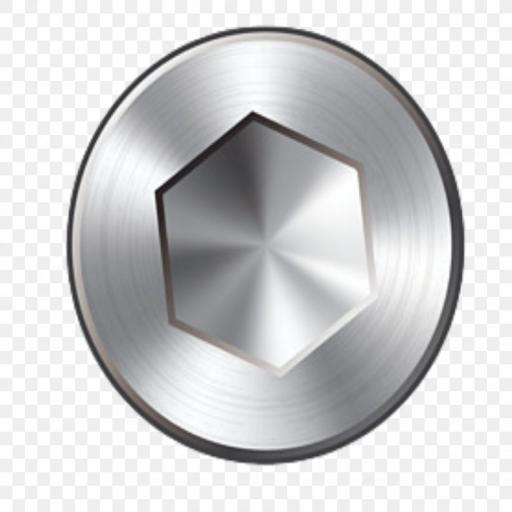Hex-Allen: (63, 26, 462, 467)
